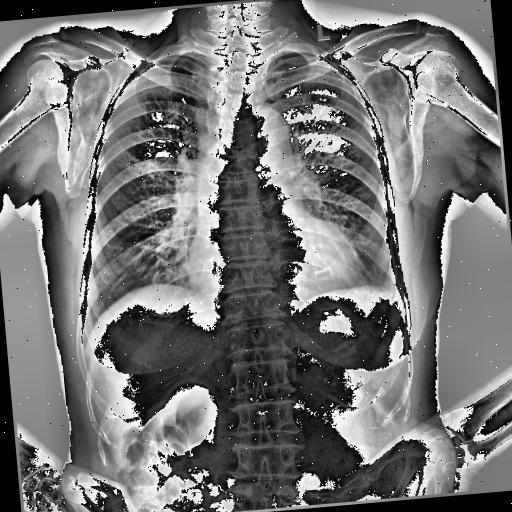0- Aortic enlargement: (236, 102, 298, 174), (232, 106, 294, 172), (244, 103, 291, 166)
3- Cardiomegaly: (184, 224, 370, 306), (182, 233, 366, 312), (182, 228, 366, 304)
